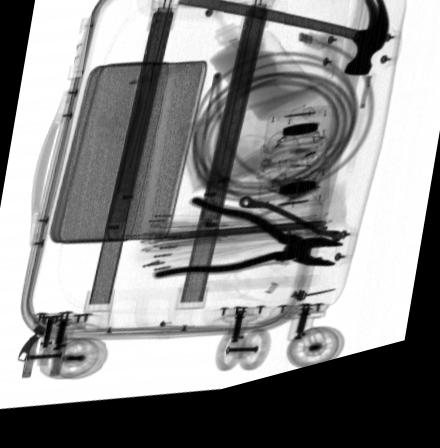Hammer: (175, 0, 388, 93)
Pliers: (153, 206, 343, 287)
Wrench: (237, 206, 342, 259)
